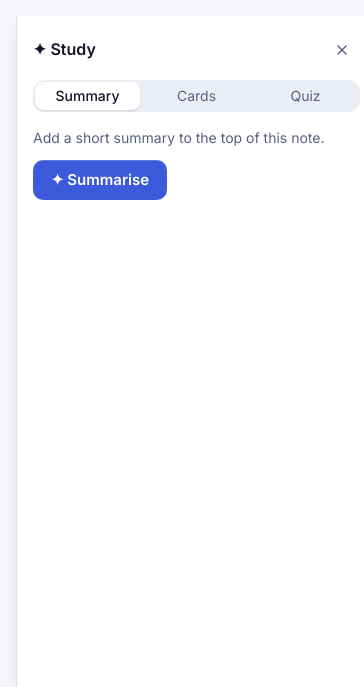
StudyPanel — summary › explains errors in plain words
Click the button "✦ Summarise". click: (100, 180)
box: x1=33 y1=160 x2=167 y2=200
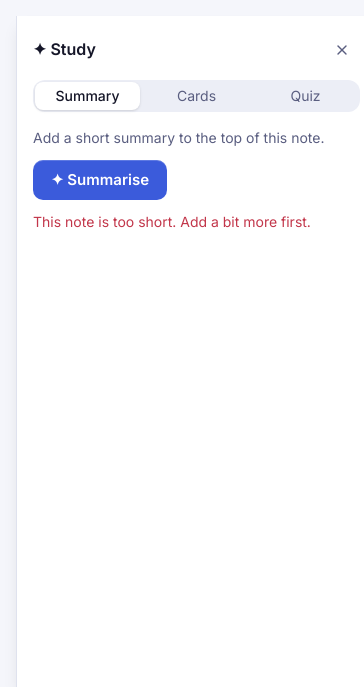
Expected: the message shows "too short", x1=33 y1=213 x2=311 y2=230
